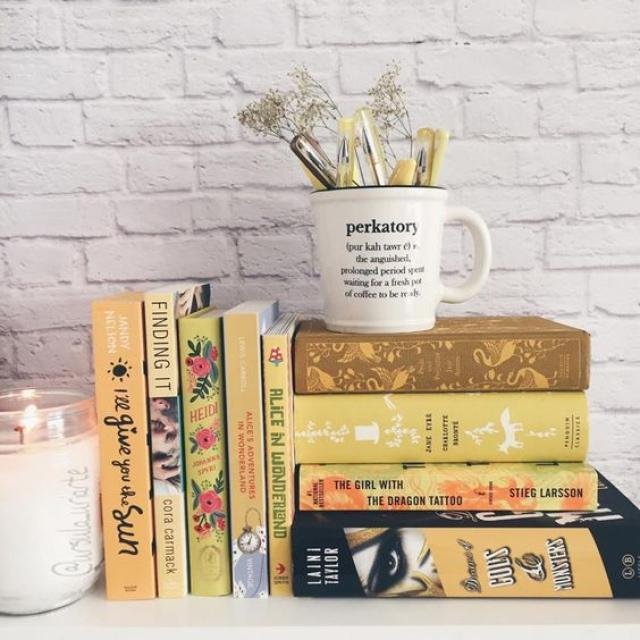book: (292, 500, 639, 598), (294, 318, 589, 394), (294, 393, 588, 463), (145, 283, 209, 597), (92, 293, 157, 599), (224, 302, 276, 596), (180, 309, 229, 595), (300, 464, 598, 511), (263, 314, 296, 595)
candle: (0, 390, 102, 613)
